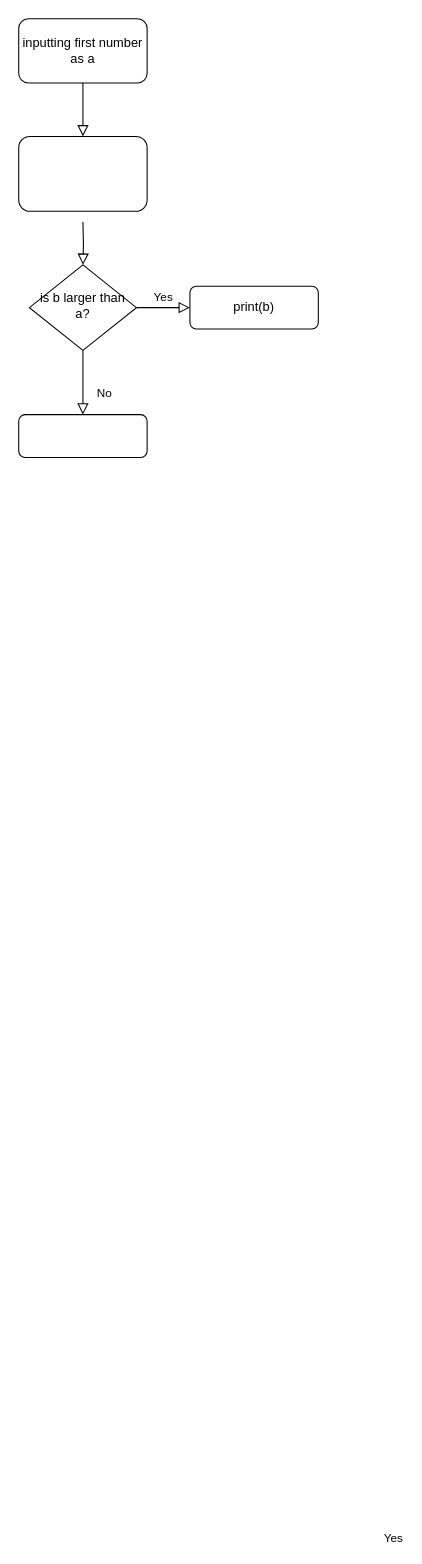
Some shapes in this 422 by 1564 pixel diagram are drawn without their labels. Here are the shapes that lost their labels. From the top down, the centre of each, then its label:
(x=82, y=173): Inputting second number as b
(x=82, y=435): Repair Lamp
